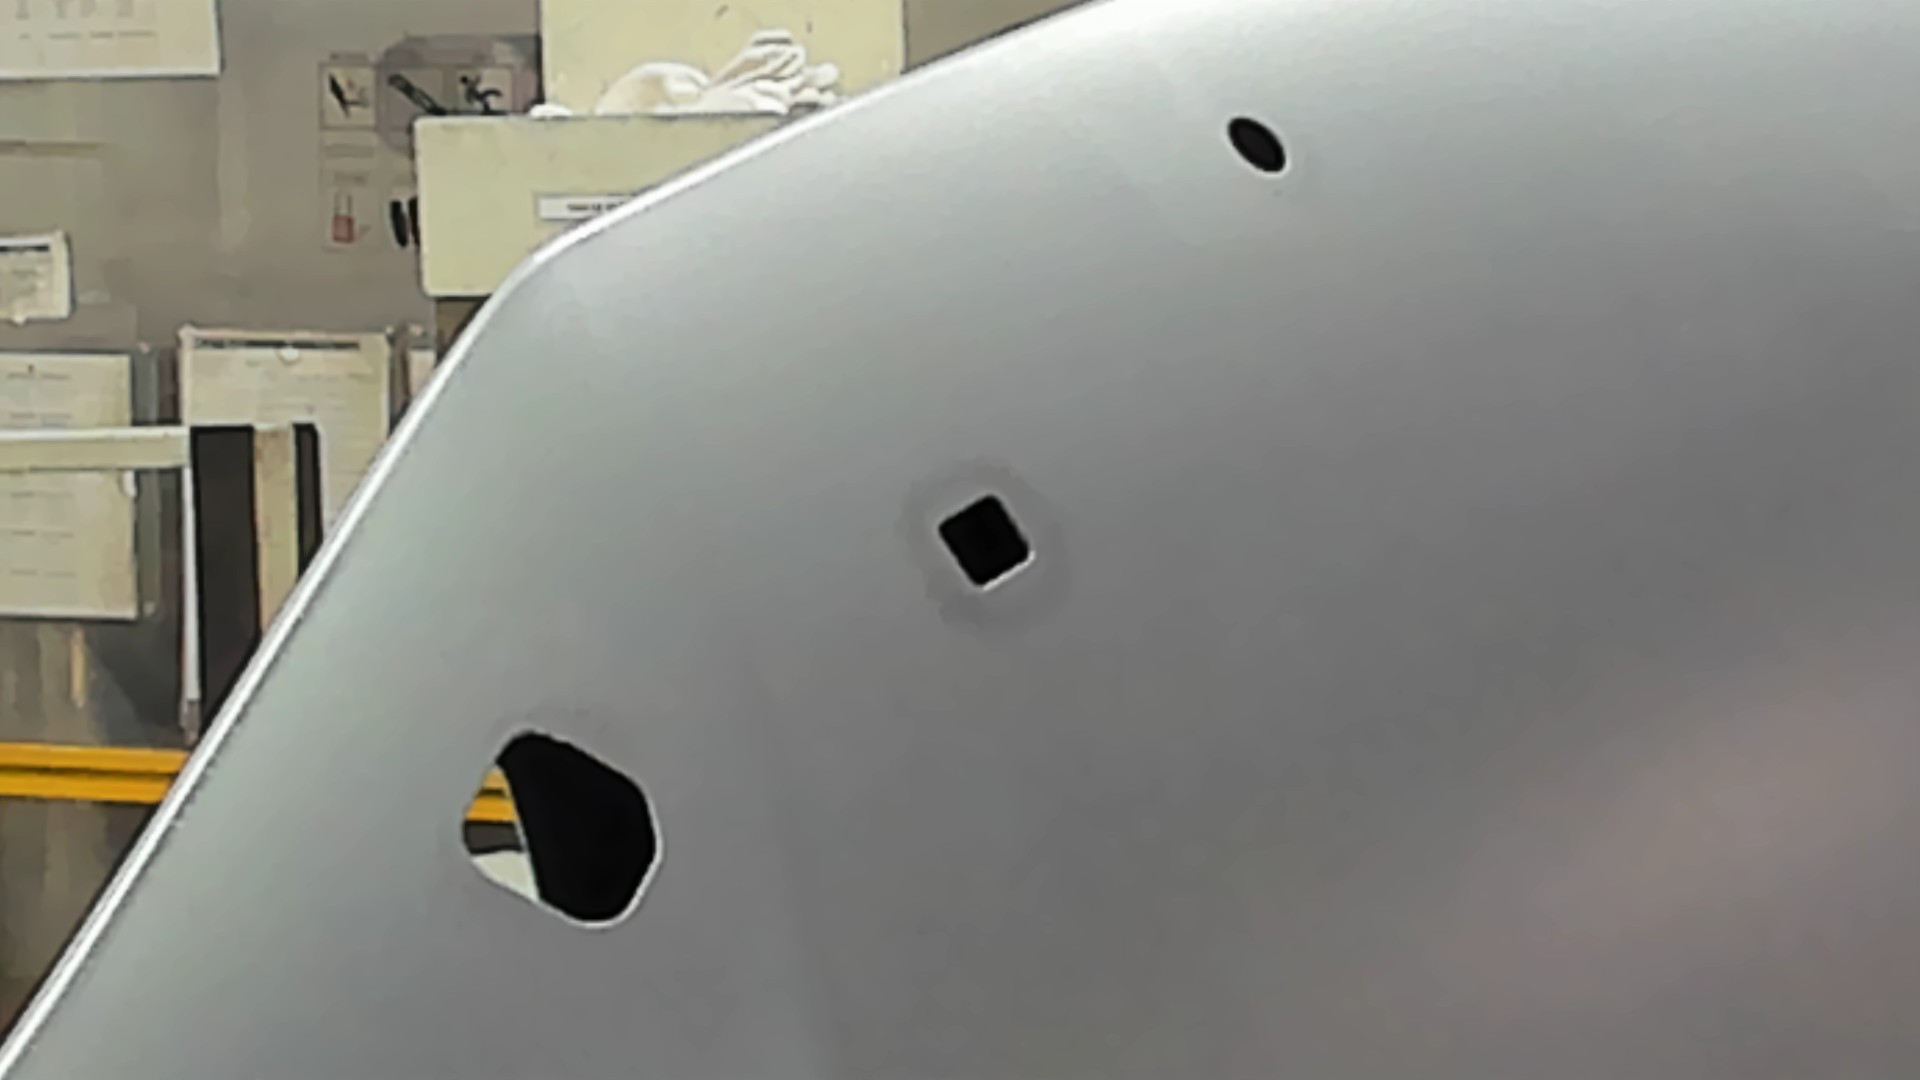capo: (1040, 179, 1920, 1080)
chico: (1222, 109, 1294, 183)
grande: (456, 723, 671, 934)
mediano: (930, 488, 1038, 593)
